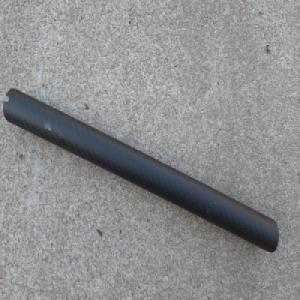LuggagePart: (2, 86, 279, 253)
